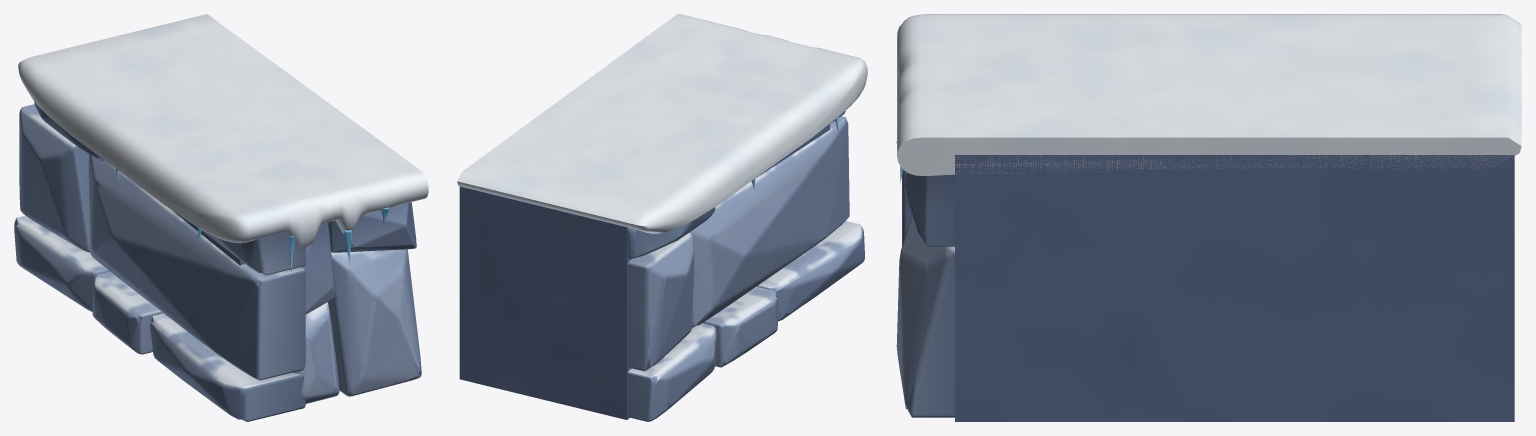
File: FP_T02_SnowCliffEnd_L.fbx
The picture shows the model from 3 angles, left to right: view 1: azimuth 30°, elevation 25°; view 2: azimuth 150°, elevation 25°; view 3: azimuth 270°, elevation 25°; orthographic projection. The views are drawn at different scales.
Parts seen in each view (by area): view 1: Rock, SnowCap; view 2: Rock, SnowCap; view 3: Rock, SnowCap.
Boxes of the visible parts, x1=… form: Rock: x1=14, y1=101, x2=421, y2=421; SnowCap: x1=18, y1=14, x2=428, y2=270; Rock: x1=459, y1=111, x2=864, y2=421; SnowCap: x1=457, y1=14, x2=867, y2=233; Rock: x1=896, y1=155, x2=1514, y2=421; SnowCap: x1=896, y1=14, x2=1521, y2=184.
Bounding box in the file's own units: 2 × 2.01 × 3.99.
